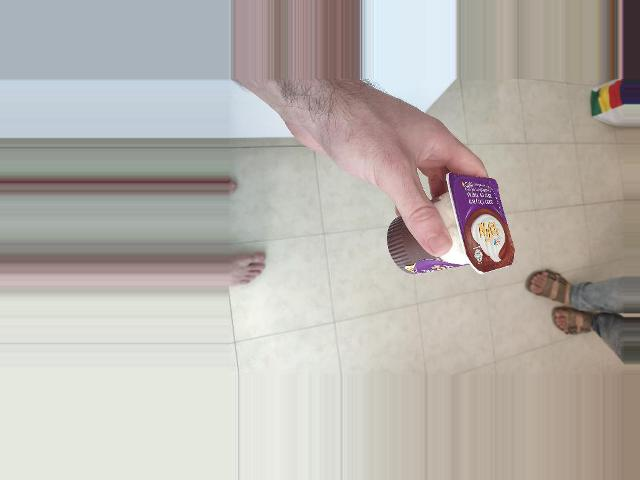milky: (434, 184, 516, 320)
